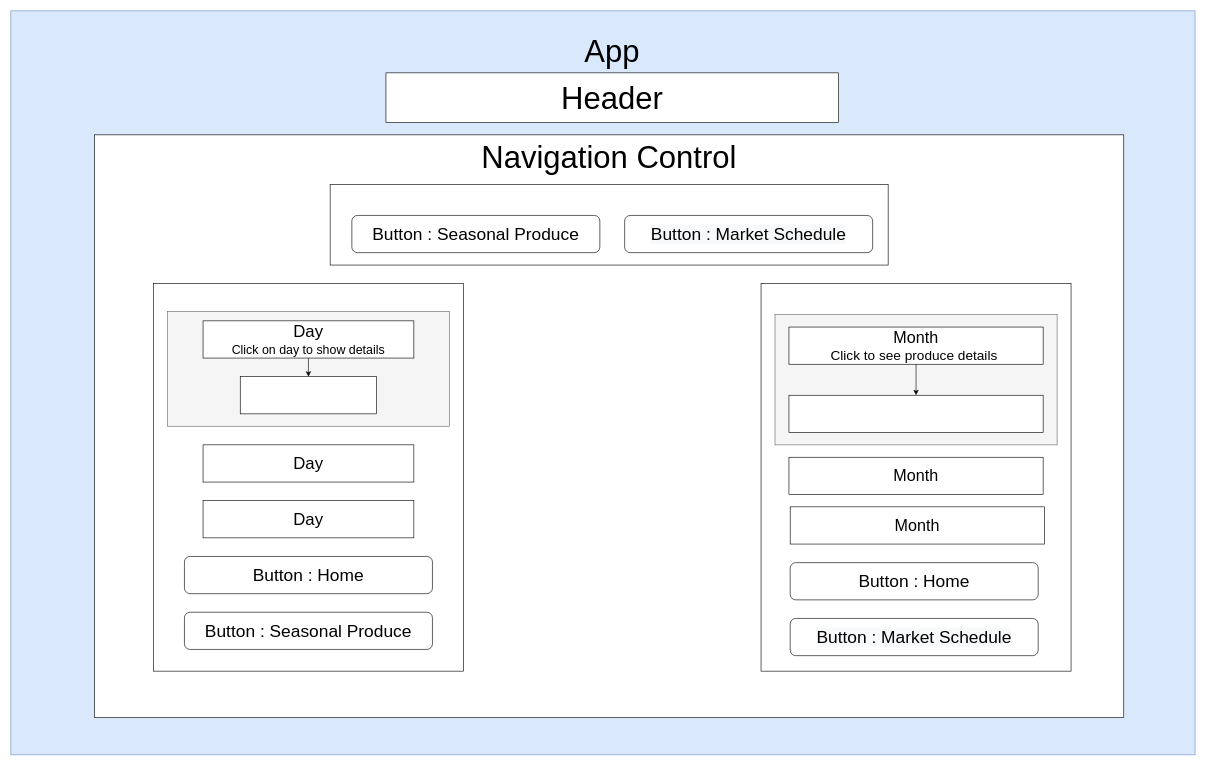
This 1206x766 diagram has some shape labels left out. The box of each missing label's shape, as (x1, y1, x2, y2) in pixels:
Day Details: (240, 376, 377, 414)
Home: (330, 184, 888, 265)
Market Schedule List: (153, 283, 463, 671)
Produce Details : List of Fruits & Veggies Available: (788, 395, 1043, 432)
Seasonal Produce List: (760, 283, 1071, 671)
